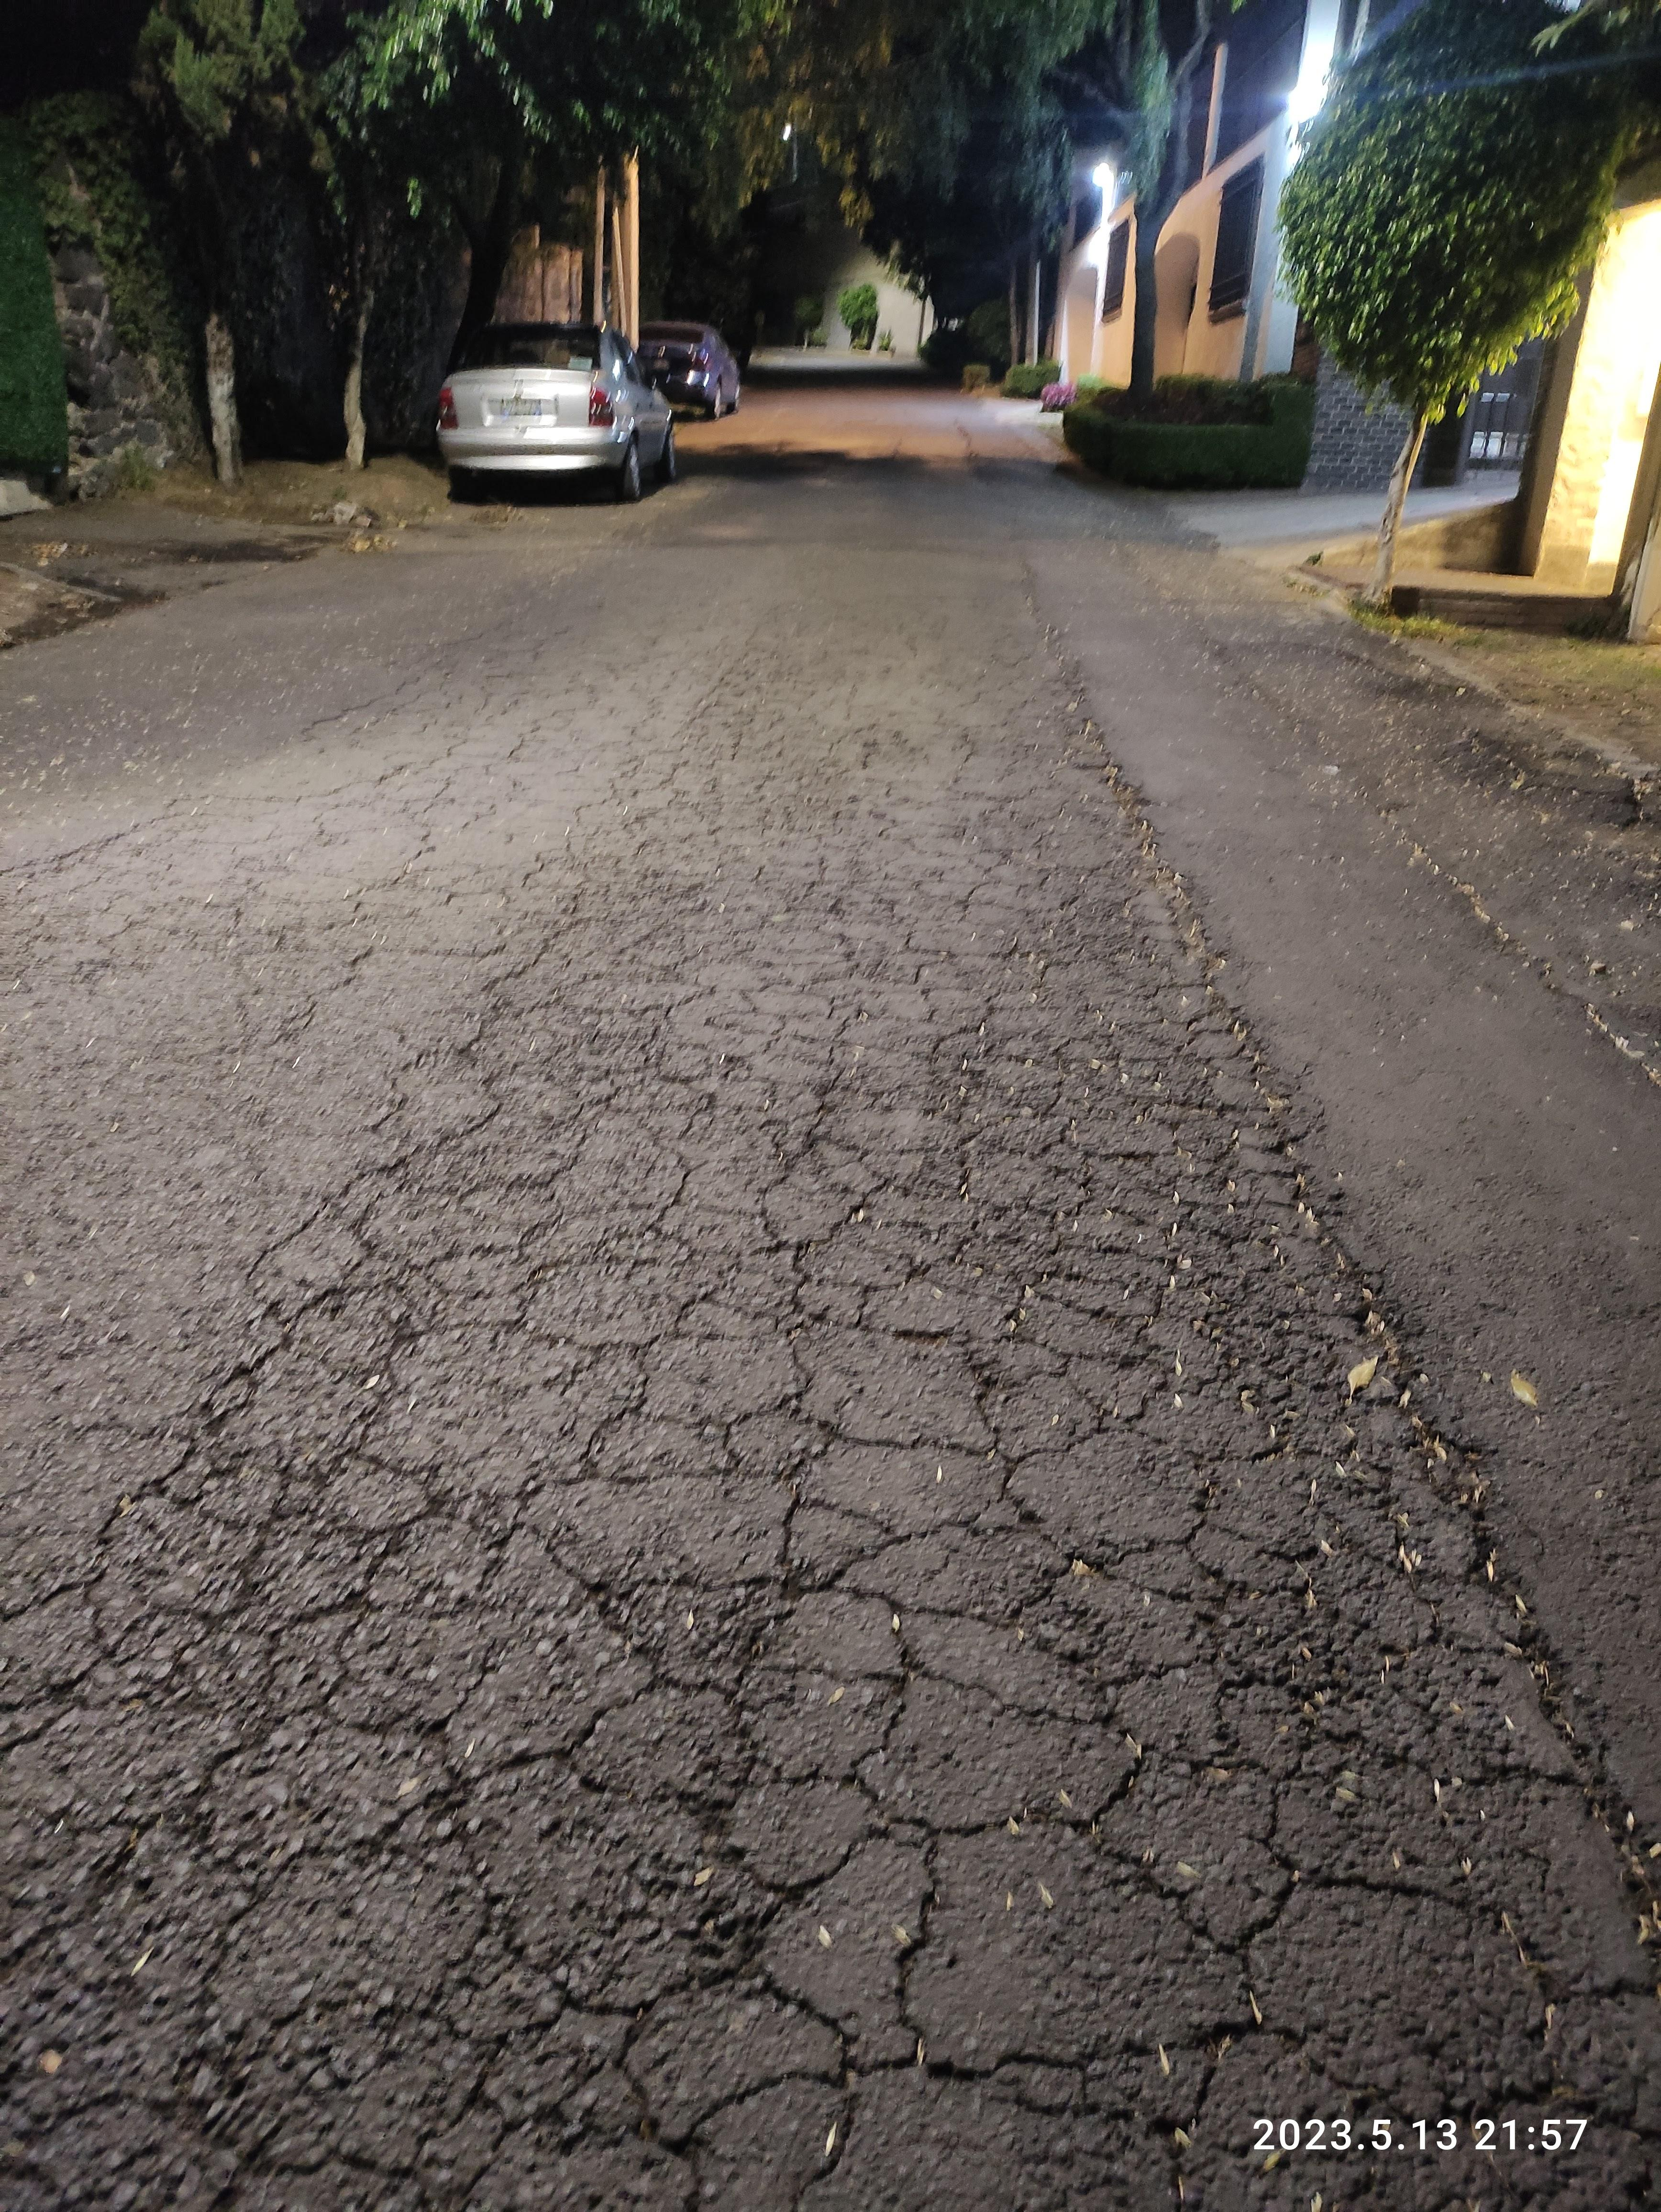alligator-crack: (714, 1317, 1661, 2212), (279, 837, 1061, 1671), (0, 1411, 628, 2139), (694, 705, 1244, 1411)
